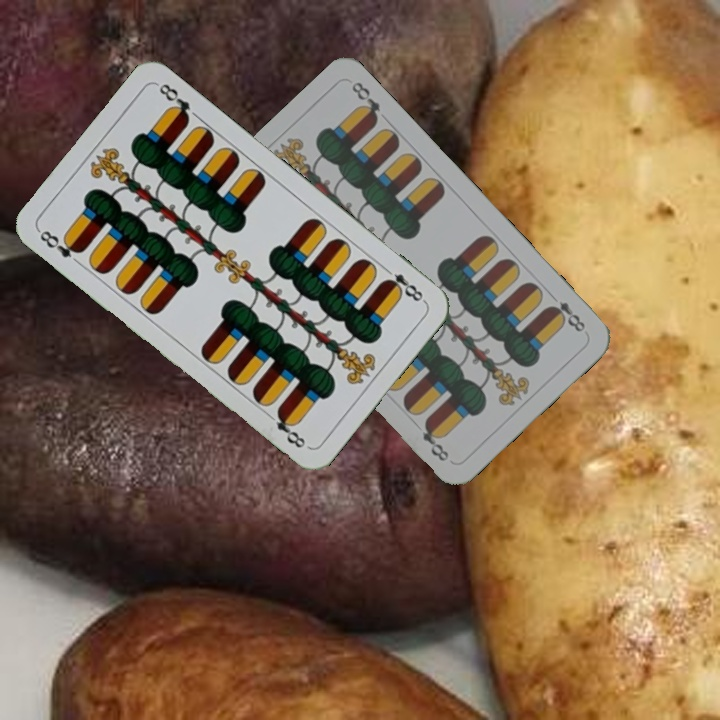E8: (379, 262, 428, 305), (544, 289, 588, 335), (34, 226, 86, 261)
